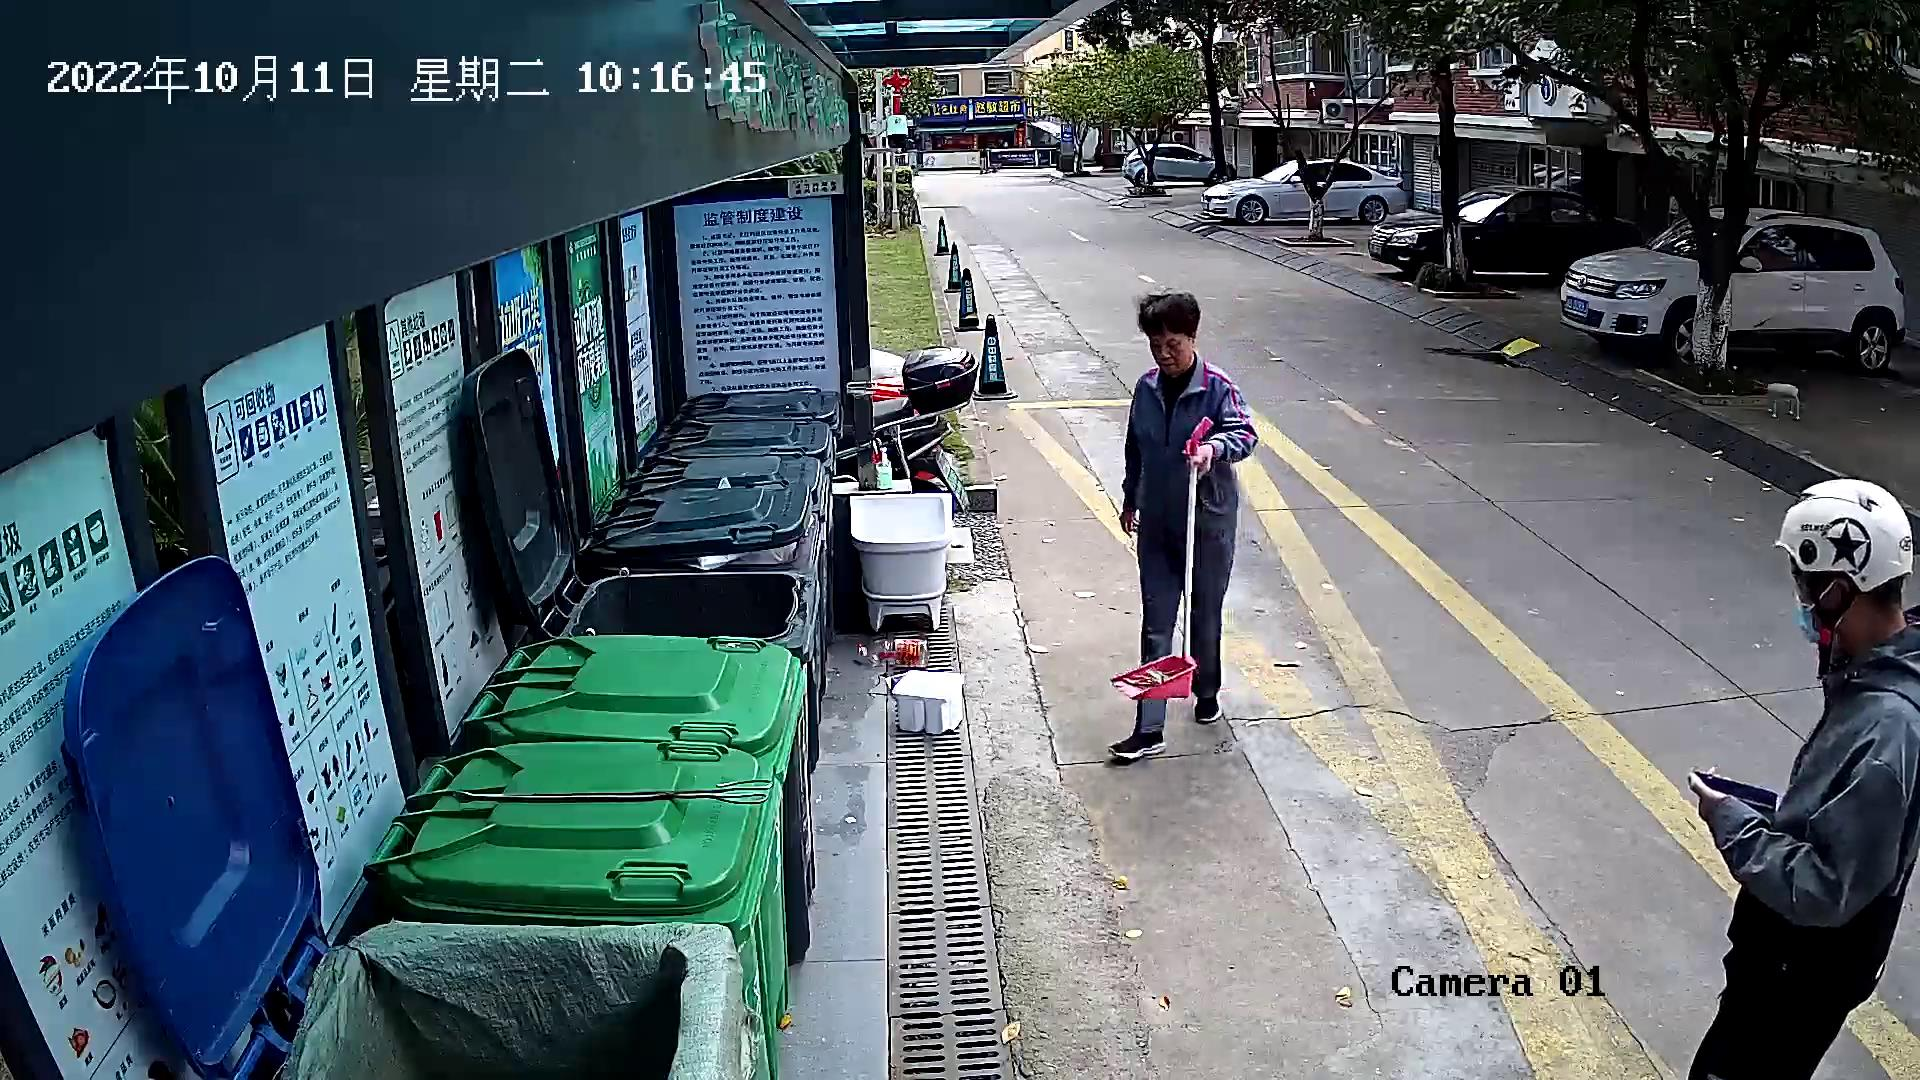paomozhipin: (886, 663, 972, 743)
person: (1672, 471, 1920, 1066), (1102, 283, 1266, 766)
suliaozhipin: (852, 630, 938, 674)
